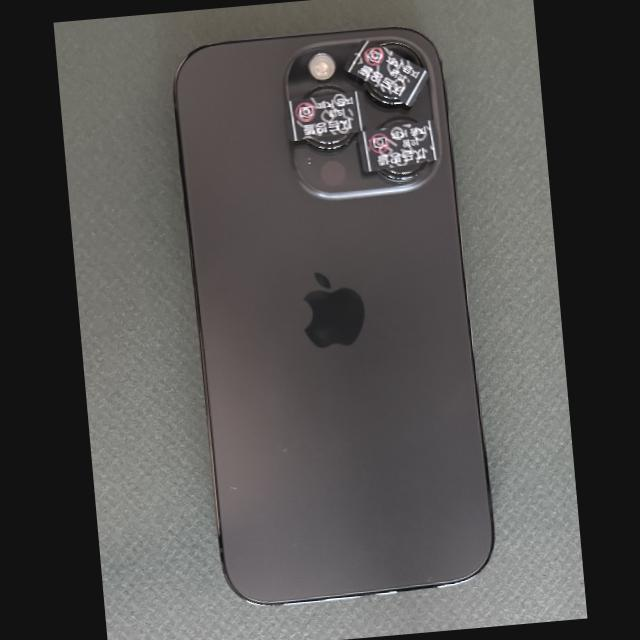lens: (378, 40, 424, 70), (377, 160, 431, 182), (303, 132, 356, 151)
phone: (171, 25, 496, 608)
sticker: (344, 40, 429, 107), (357, 119, 440, 172), (284, 90, 367, 141)
